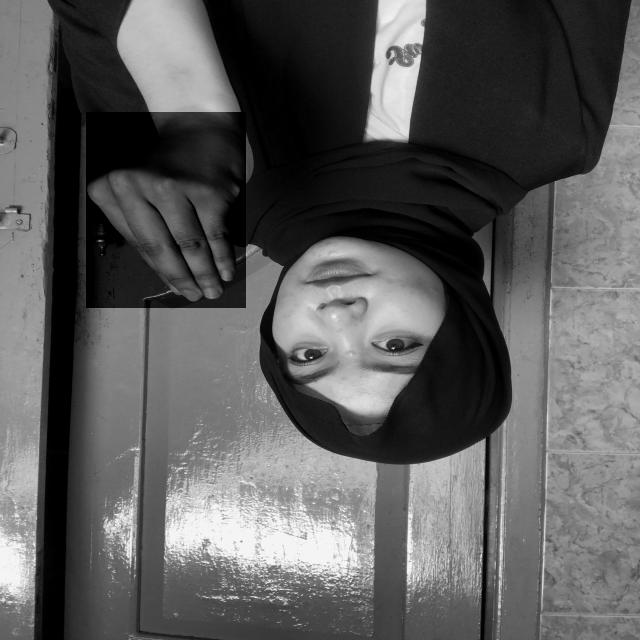kapan: (86, 112, 246, 308)
